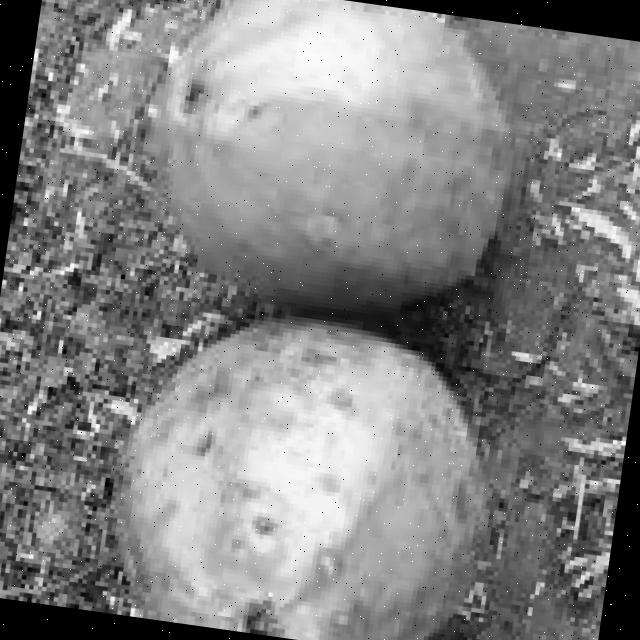Good_Guava 5-7 days: (113, 0, 512, 640)
